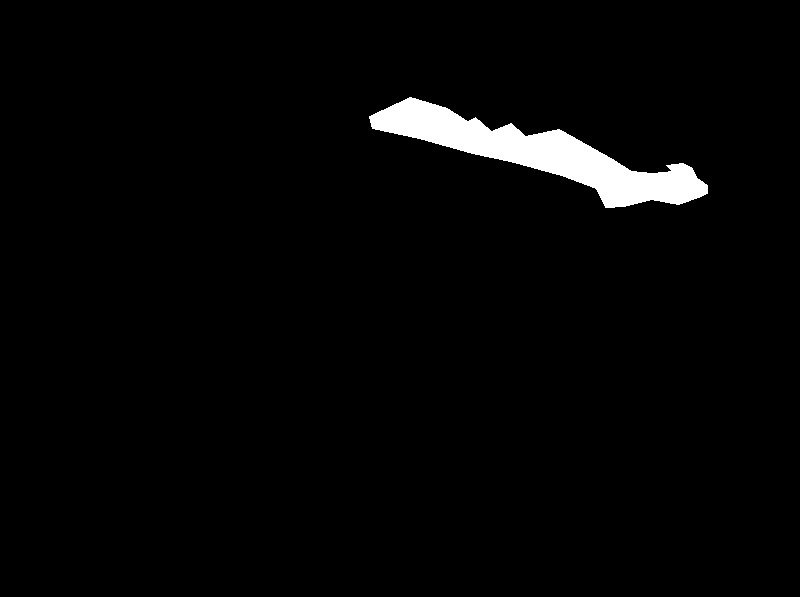Fire: (544, 147, 715, 206)
